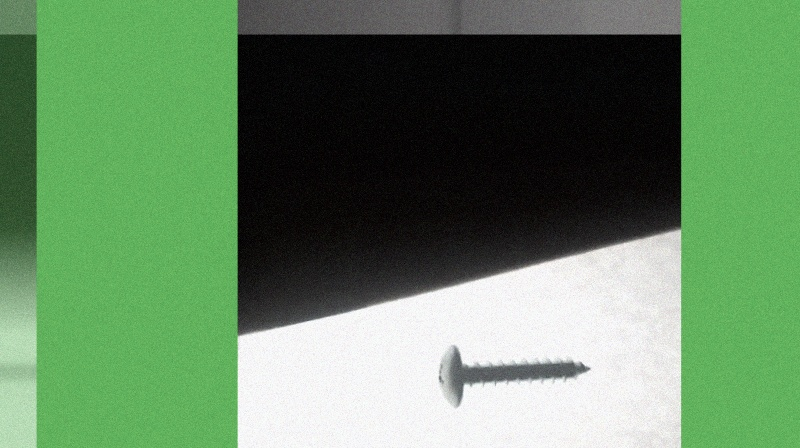S003: (431, 341, 592, 411)
